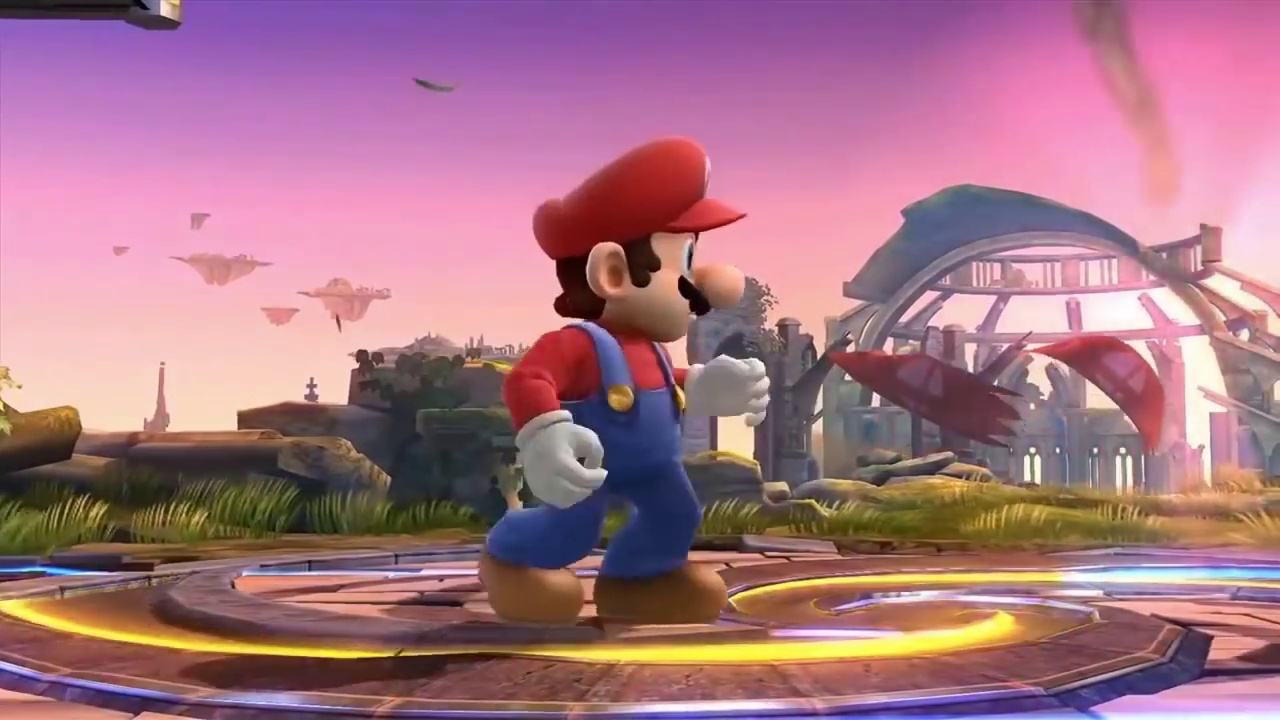Mario: (484, 140, 773, 619)
